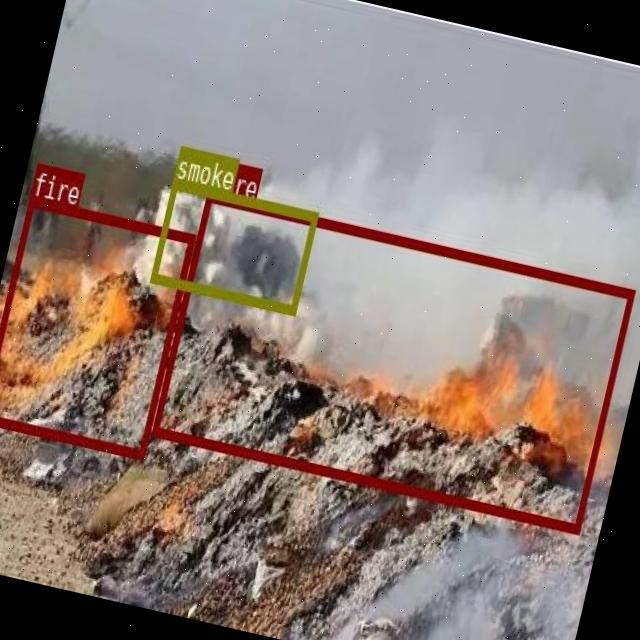fire: (152, 190, 634, 530), (0, 195, 193, 458)
smoke: (149, 179, 317, 313)
